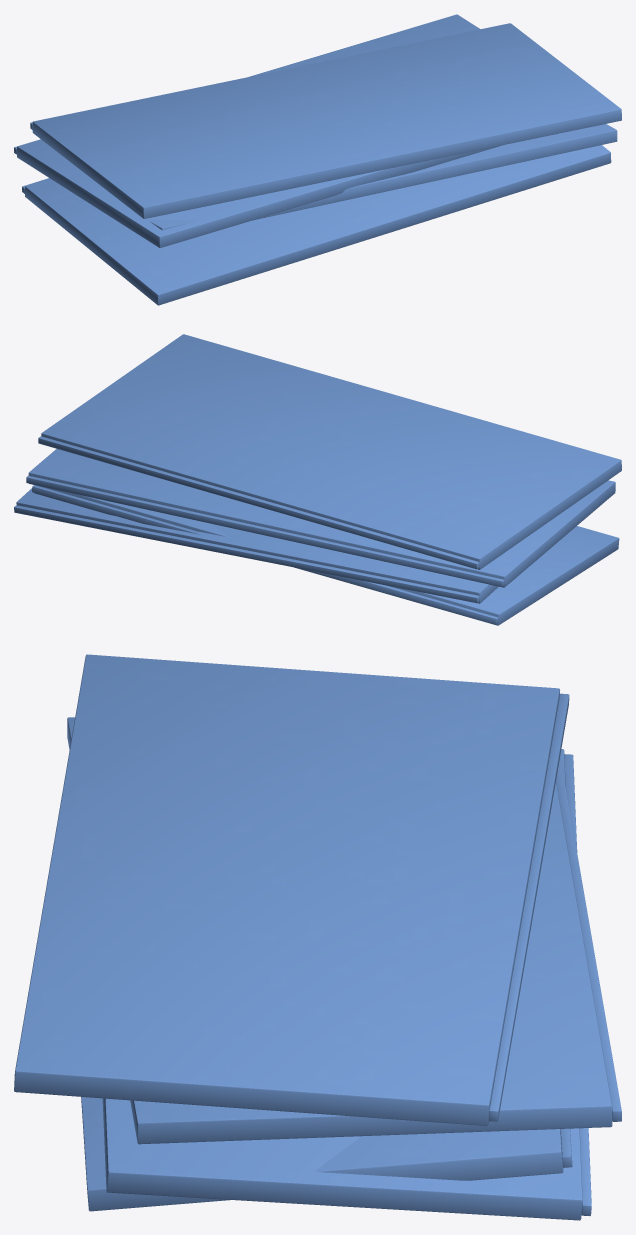
The model's file is IMP-ISO-004_anim.glb.
3 renders of one model, top to bottom at view 1: azimuth 30°, elevation 25°; view 2: azimuth 150°, elevation 25°; view 3: azimuth 270°, elevation 25°, orthographic. The views are drawn at different scales.
Visible parts, largest first — view 1: IMP-ISO-004_anim3, IMP-ISO-004_anim0, IMP-ISO-004_anim2, IMP-ISO-004_anim1; view 2: IMP-ISO-004_anim3, IMP-ISO-004_anim2, IMP-ISO-004_anim1, IMP-ISO-004_anim0; view 3: IMP-ISO-004_anim3, IMP-ISO-004_anim2, IMP-ISO-004_anim1, IMP-ISO-004_anim0.
Boxes of the visible parts, x1=… form: IMP-ISO-004_anim3: x1=30, y1=23, x2=621, y2=218; IMP-ISO-004_anim0: x1=22, y1=145, x2=611, y2=305; IMP-ISO-004_anim2: x1=14, y1=14, x2=501, y2=247; IMP-ISO-004_anim1: x1=149, y1=124, x2=617, y2=230; IMP-ISO-004_anim3: x1=38, y1=334, x2=621, y2=569; IMP-ISO-004_anim2: x1=26, y1=449, x2=615, y2=587; IMP-ISO-004_anim1: x1=14, y1=488, x2=498, y2=603; IMP-ISO-004_anim0: x1=32, y1=485, x2=619, y2=625; IMP-ISO-004_anim3: x1=14, y1=654, x2=569, y2=1125; IMP-ISO-004_anim2: x1=67, y1=717, x2=621, y2=1144; IMP-ISO-004_anim1: x1=102, y1=749, x2=591, y2=1220; IMP-ISO-004_anim0: x1=81, y1=1097, x2=572, y2=1211.
Bounding box in the file's own units: 1.32 × 0.2508 × 0.766.
Materials: 1 (1 with a texture image).
